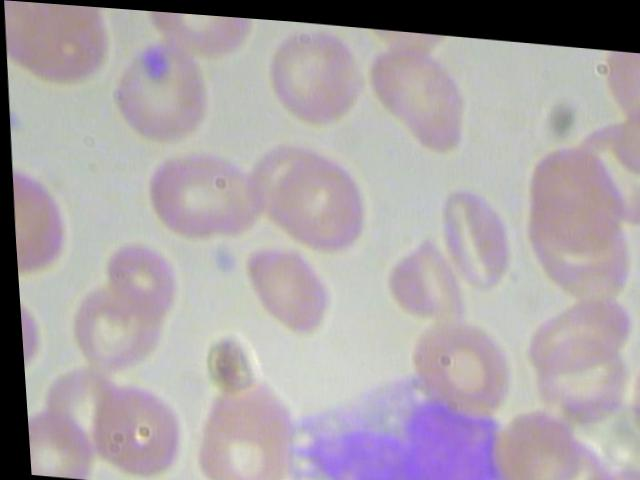Red Blood Cells: (122, 131, 275, 252), (365, 26, 482, 152), (104, 31, 221, 151), (392, 311, 514, 422), (258, 18, 372, 131), (257, 139, 372, 248), (230, 233, 343, 334), (190, 375, 297, 479), (77, 375, 184, 477), (429, 177, 522, 285), (97, 233, 179, 315)
White Blood Cells: (278, 348, 516, 479)
